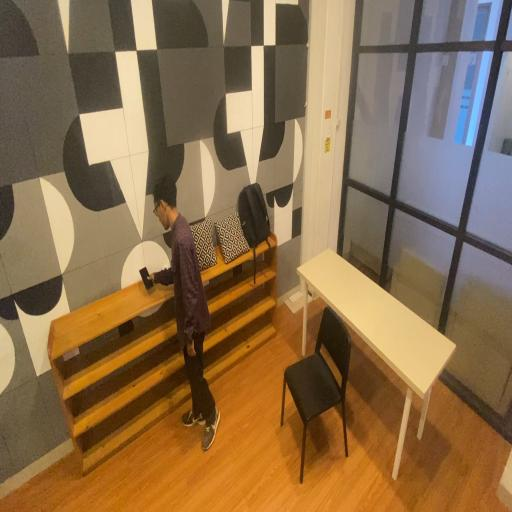bantal: (48, 301, 192, 476), (215, 211, 250, 264), (191, 216, 218, 270)
hp: (139, 261, 154, 294)
kursi: (280, 304, 352, 484)
tas ransel: (238, 182, 271, 247)
